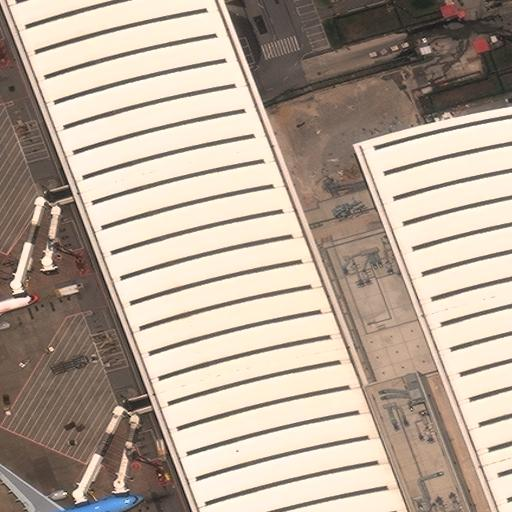Large Civil Transport: (0, 456, 144, 511)
Medium Civil Transport: (0, 284, 38, 348)
